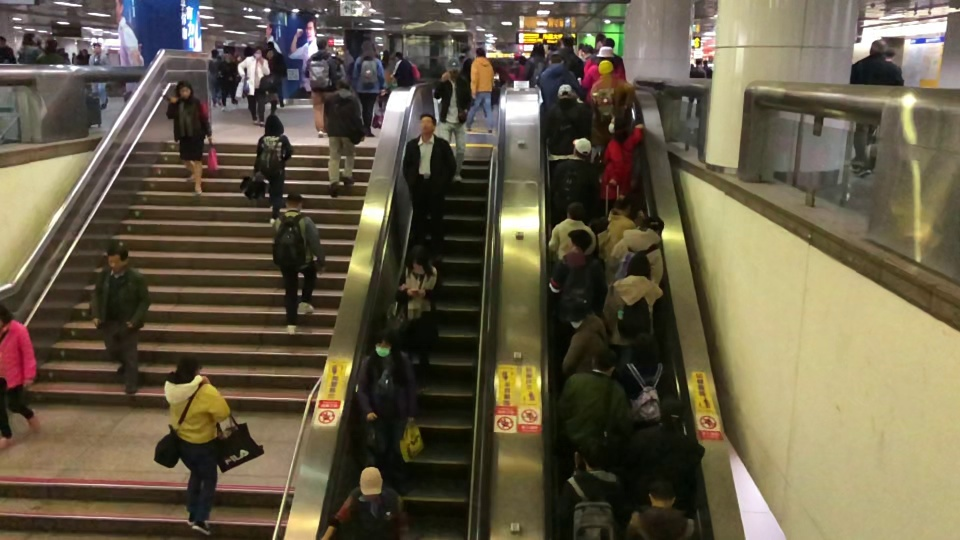person_head: (659, 395, 690, 427), (579, 438, 609, 471), (590, 348, 619, 378), (647, 479, 676, 508), (632, 334, 659, 364), (358, 465, 383, 497), (106, 239, 129, 272), (626, 252, 652, 281), (565, 229, 593, 254), (374, 326, 397, 356), (564, 300, 585, 331), (175, 354, 202, 375), (263, 114, 285, 136), (571, 136, 592, 159), (418, 112, 438, 135), (607, 114, 628, 135), (624, 194, 644, 216), (409, 245, 426, 269), (646, 215, 664, 235), (596, 46, 614, 64), (566, 201, 583, 220), (286, 190, 302, 210), (176, 79, 193, 97), (869, 39, 887, 55), (556, 83, 573, 99), (596, 59, 614, 74), (0, 304, 13, 324), (530, 42, 545, 58), (445, 60, 458, 78), (336, 76, 351, 90), (44, 39, 57, 53), (361, 39, 374, 52), (314, 37, 328, 49), (23, 33, 35, 46), (549, 53, 561, 65), (603, 37, 616, 48), (562, 36, 572, 48), (209, 48, 219, 59), (476, 47, 486, 57), (93, 43, 102, 54), (253, 47, 261, 57), (694, 57, 702, 65), (395, 51, 402, 60), (0, 36, 6, 46), (703, 59, 707, 66)
person_vbox: (165, 352, 231, 538), (354, 327, 418, 495), (91, 239, 149, 395), (628, 394, 705, 506), (271, 190, 326, 338), (402, 113, 457, 259), (850, 38, 905, 175), (602, 251, 666, 364), (559, 347, 629, 449), (559, 436, 624, 540), (319, 466, 410, 540), (0, 304, 42, 449), (547, 228, 603, 330), (395, 245, 439, 372), (165, 79, 212, 195), (323, 76, 365, 199), (622, 333, 674, 426), (623, 478, 698, 540), (434, 60, 472, 181), (252, 114, 291, 225), (589, 58, 637, 147), (598, 114, 645, 203), (609, 215, 665, 286), (543, 84, 591, 164), (551, 137, 598, 217), (304, 37, 340, 138), (598, 193, 646, 265), (561, 300, 608, 372), (353, 39, 386, 138), (547, 201, 596, 261), (237, 47, 271, 128), (581, 46, 626, 103), (465, 47, 493, 133), (540, 54, 583, 104), (583, 37, 627, 77), (685, 57, 708, 120), (89, 43, 111, 108), (524, 42, 547, 82), (208, 49, 223, 106), (392, 51, 415, 86), (35, 39, 64, 64), (561, 37, 582, 71), (21, 32, 42, 64), (0, 36, 16, 64), (703, 59, 713, 77)
